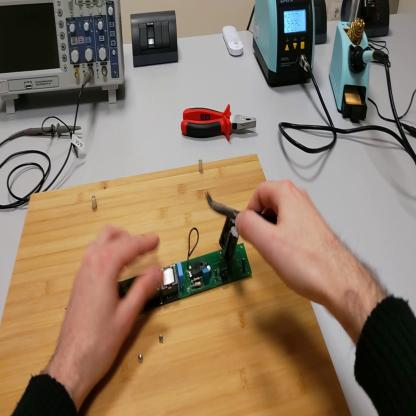hand: (60, 222, 164, 387), (235, 178, 339, 305)
high voltage board: (123, 213, 255, 309)
oscilloscope: (2, 3, 125, 117)
oscilloscope probe tip: (22, 126, 82, 137)
pliers: (180, 103, 261, 144), (203, 196, 237, 219)
socket: (341, 2, 393, 42), (316, 1, 329, 47)
welder base: (331, 2, 374, 121)
welder probe tip: (354, 52, 388, 71)
welder station: (253, 3, 316, 87)
working area: (2, 157, 352, 416)
